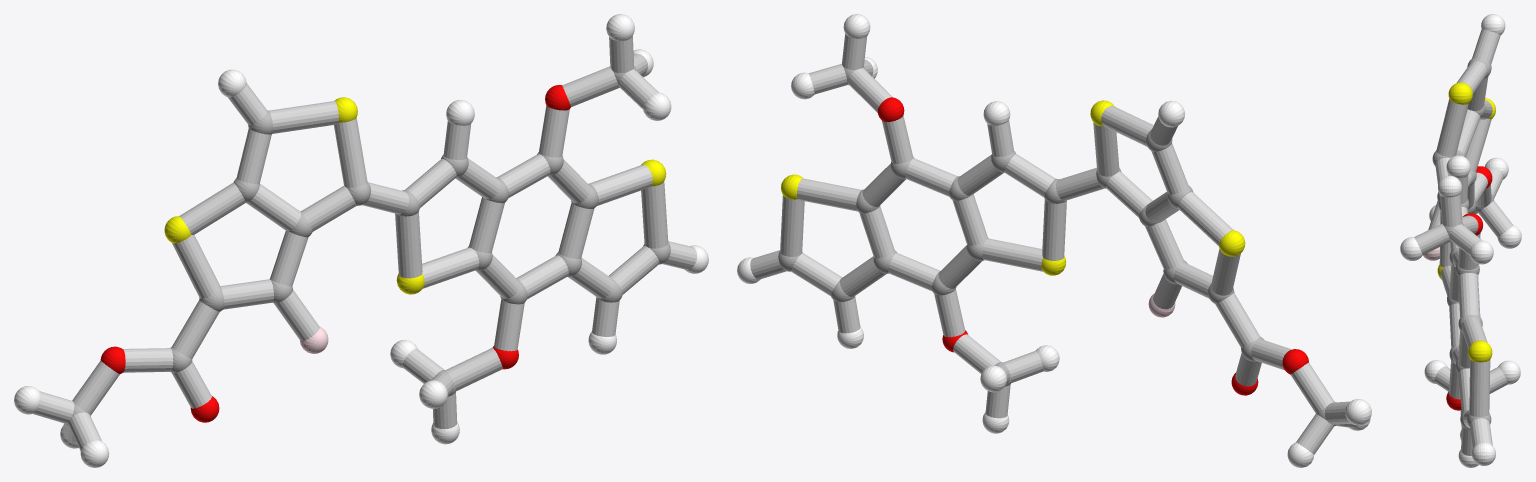
Rendered from color.glb.
The picture shows the model from 3 angles, left to right: view 1: azimuth 30°, elevation 25°; view 2: azimuth 150°, elevation 25°; view 3: azimuth 270°, elevation 25°; orthographic projection. The views are drawn at different scales.
Visible parts, largest first — view 1: grp15205, grp8689, grp1, grp13395, grp7241; view 2: grp15205, grp8689, grp1, grp7241, grp13395; view 3: grp15205, grp8689, grp1, grp7241, grp13395, grp14843.
Boxes of the visible parts, <box> form: grp15205: <box>33,36,696,450</box>; grp8689: <box>14,14,708,467</box>; grp1: <box>66,66,670,426</box>; grp13395: <box>100,85,570,422</box>; grp7241: <box>164,97,666,294</box>; grp15205: <box>750,34,1358,454</box>; grp8689: <box>737,14,1371,467</box>; grp1: <box>778,67,1336,426</box>; grp7241: <box>781,100,1245,275</box>; grp13395: <box>877,97,1308,395</box>; grp15205: <box>1414,29,1513,456</box>; grp8689: <box>1400,14,1521,467</box>; grp1: <box>1432,58,1493,429</box>; grp7241: <box>1437,82,1495,362</box>; grp13395: <box>1446,166,1492,410</box>; grp14843: <box>1422,247,1439,260</box>.
Size of the model in its own units: 16.49 by 9.5 by 3.01.
